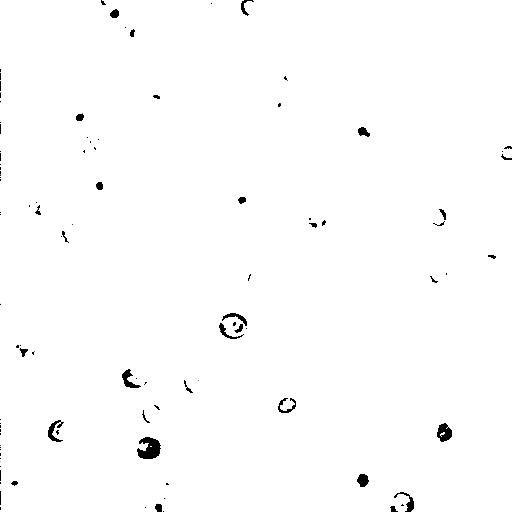micro-algae: (0, 58, 121, 180), (301, 73, 388, 159), (93, 443, 191, 512), (432, 61, 511, 145), (99, 378, 156, 432), (262, 0, 321, 47), (1, 38, 28, 119), (34, 224, 80, 270), (25, 325, 66, 368), (297, 199, 338, 238), (1, 153, 22, 225), (80, 486, 134, 512), (70, 0, 126, 25), (104, 317, 142, 352), (113, 365, 154, 396), (347, 114, 381, 151), (473, 244, 507, 279), (393, 302, 425, 335), (221, 460, 253, 492), (26, 193, 59, 224), (78, 134, 107, 168), (6, 408, 35, 442), (65, 102, 96, 133), (273, 63, 304, 92), (218, 311, 249, 340), (247, 390, 275, 422), (133, 436, 162, 462), (87, 172, 114, 199), (119, 366, 149, 389), (426, 261, 452, 287), (2, 470, 28, 496), (431, 416, 454, 445), (47, 418, 72, 443), (11, 340, 35, 364), (121, 23, 144, 48), (58, 222, 82, 245), (103, 2, 128, 24), (389, 491, 416, 511), (156, 474, 178, 496), (141, 402, 161, 425), (144, 497, 174, 512), (182, 373, 202, 395), (245, 267, 264, 289), (420, 0, 446, 16), (429, 207, 448, 228), (278, 396, 299, 414), (271, 95, 290, 114), (239, 0, 258, 17), (353, 471, 370, 489), (169, 0, 193, 10), (436, 66, 451, 82), (200, 0, 224, 9), (500, 144, 512, 162), (235, 194, 249, 206), (98, 0, 114, 6)
